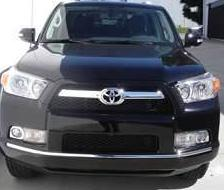front_view: (1, 60, 214, 166)
headlight: (171, 75, 220, 106)
